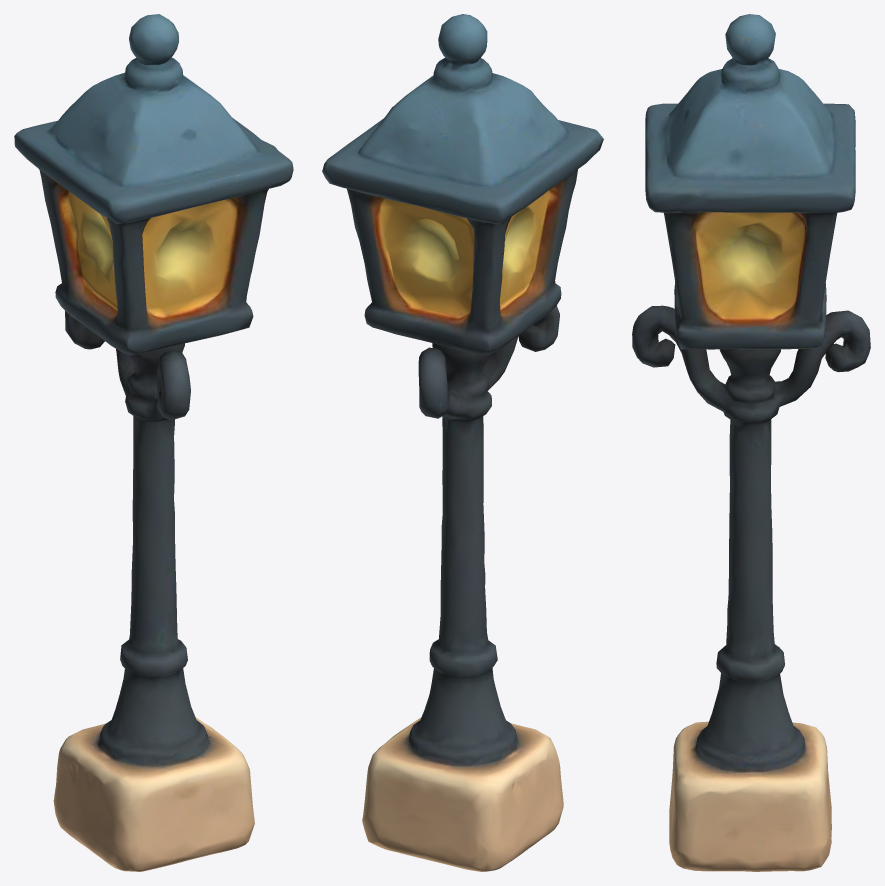
The model's file is lamp.glb.
The picture shows the model from 3 angles, left to right: view 1: azimuth 30°, elevation 25°; view 2: azimuth 150°, elevation 25°; view 3: azimuth 270°, elevation 25°; orthographic projection.
Parts seen in each view (by area): view 1: tripo_node_f76dd95f-9821-4590-ad8f-837879257e29; view 2: tripo_node_f76dd95f-9821-4590-ad8f-837879257e29; view 3: tripo_node_f76dd95f-9821-4590-ad8f-837879257e29.
Part boxes in pixels (<box>): tripo_node_f76dd95f-9821-4590-ad8f-837879257e29: <box>14,14,293,871</box>; tripo_node_f76dd95f-9821-4590-ad8f-837879257e29: <box>322,14,603,871</box>; tripo_node_f76dd95f-9821-4590-ad8f-837879257e29: <box>632,14,870,871</box>.
Size of the model in its own units: 0.2335 by 1 by 0.2616.
1 material, 1 textured.
